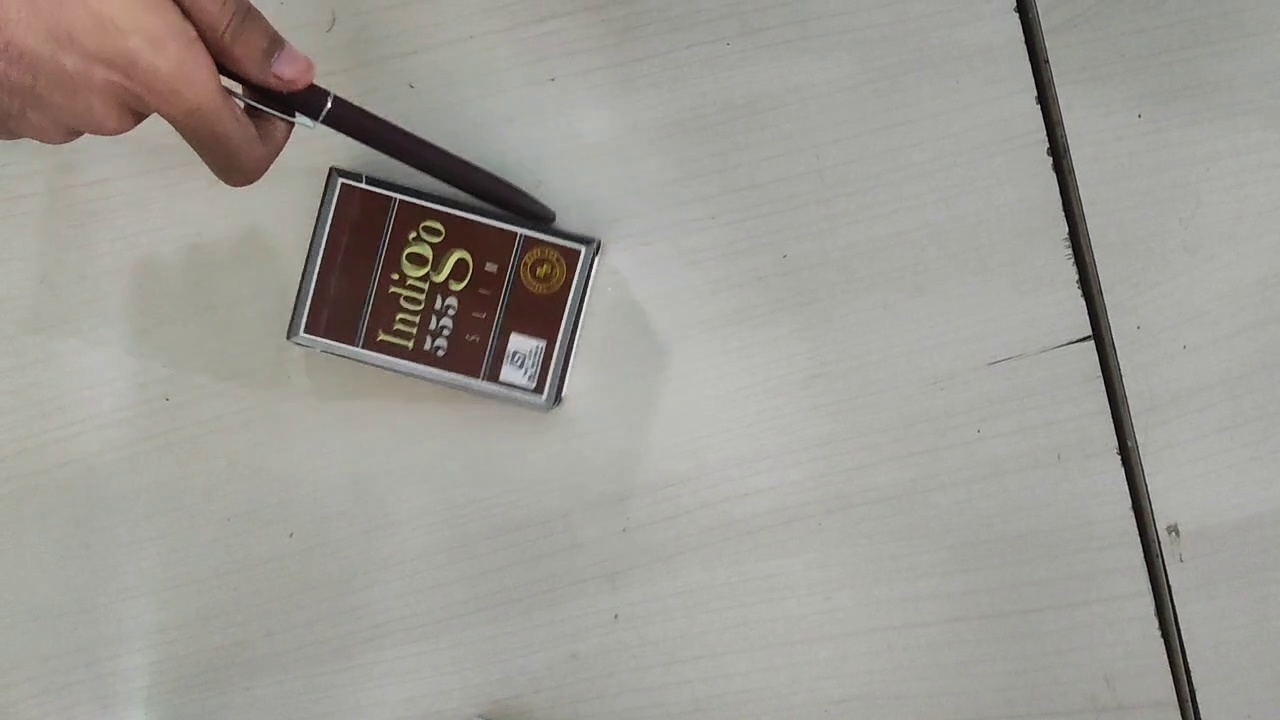BEX: (302, 178, 585, 399)
